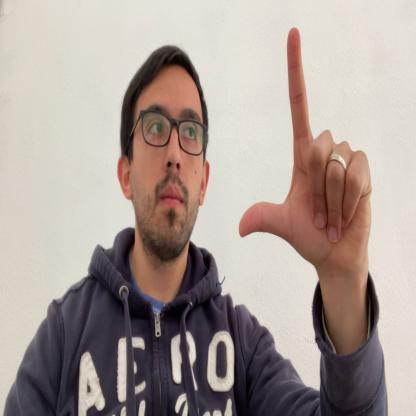L: (238, 25, 373, 276)
